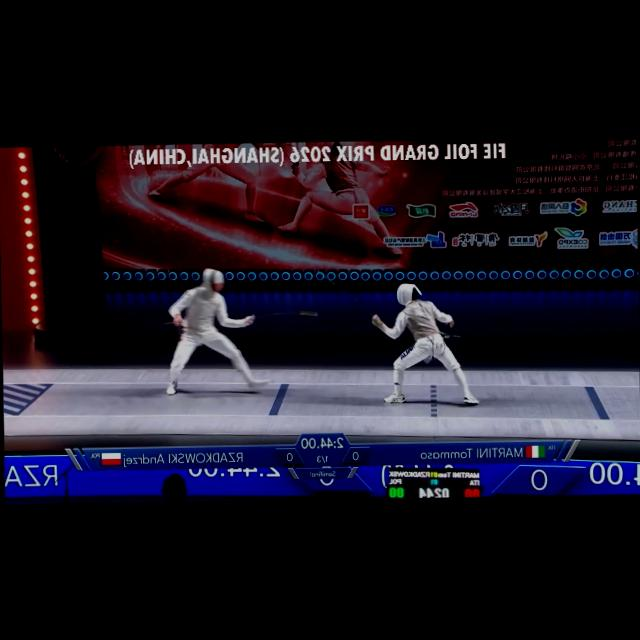blade: (318, 270, 378, 324), (244, 310, 320, 322)
